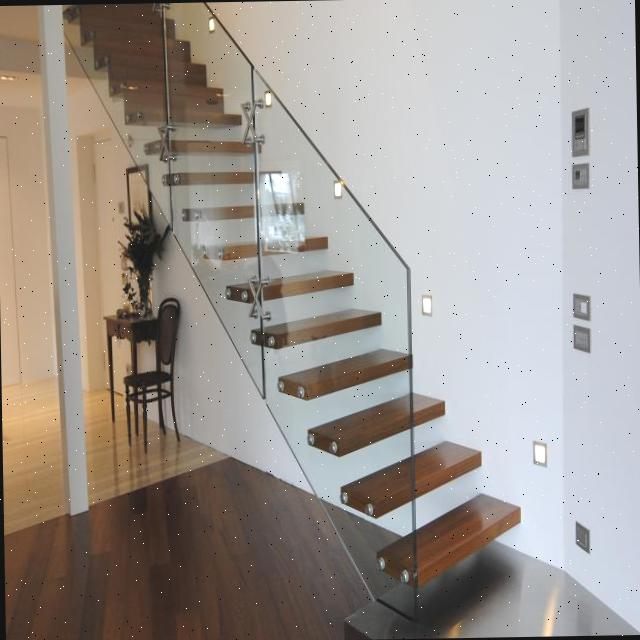stairs: (62, 0, 523, 621)
